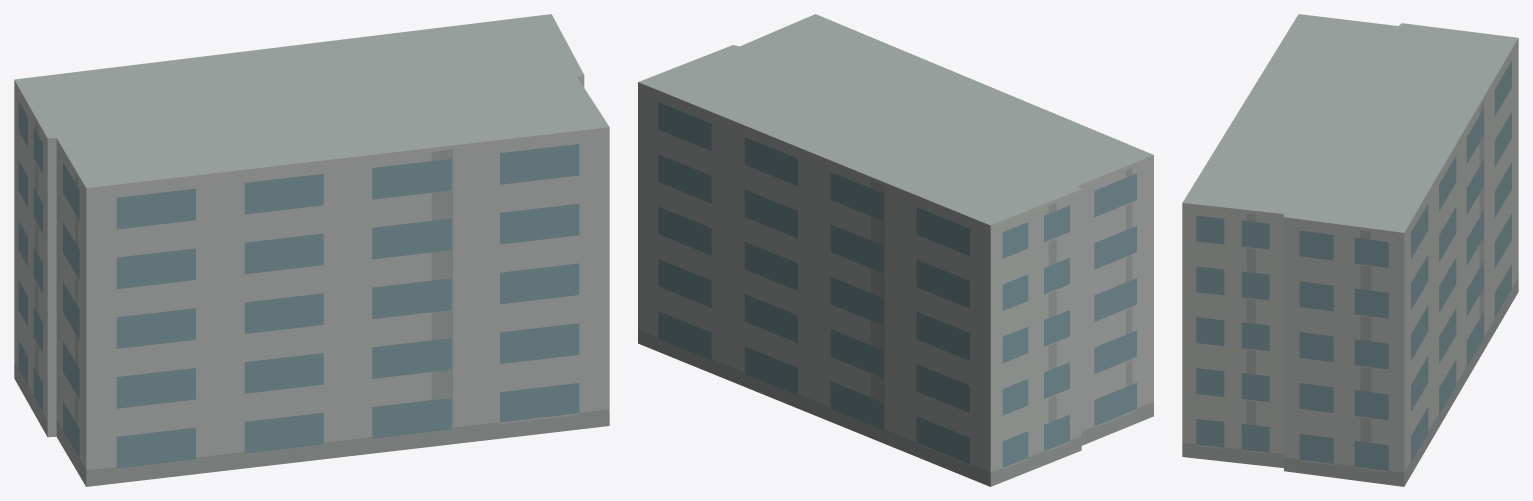
The model's file is survey-upis-32503907.glb.
The picture shows the model from 3 angles, left to right: view 1: azimuth 30°, elevation 25°; view 2: azimuth 150°, elevation 25°; view 3: azimuth 270°, elevation 25°; orthographic projection. The views are drawn at different scales.
Visible parts, largest first — view 1: survey-upis-32503907.tmp; view 2: survey-upis-32503907.tmp; view 3: survey-upis-32503907.tmp.
Boxes of the visible parts, x1,y1,x2,y2 form: survey-upis-32503907.tmp: [14, 14, 609, 486]; survey-upis-32503907.tmp: [638, 14, 1153, 486]; survey-upis-32503907.tmp: [1182, 14, 1518, 486].
Size of the model in its own units: 33.26 by 18 by 21.6.
